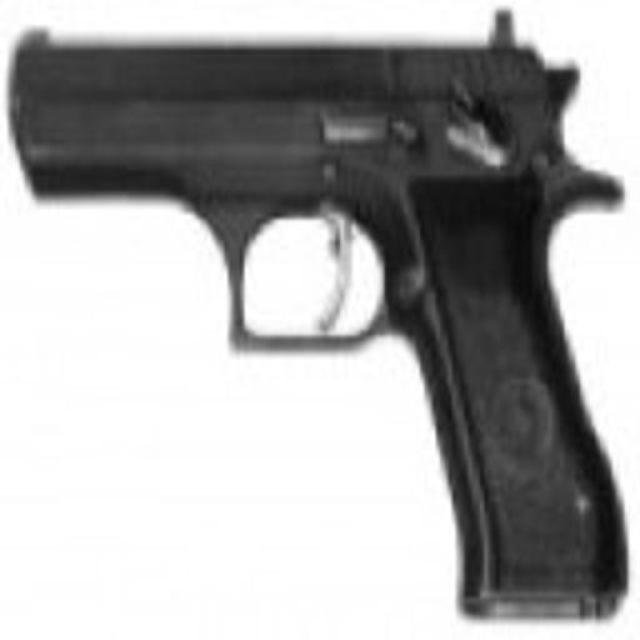pistol: (15, 21, 631, 612)
